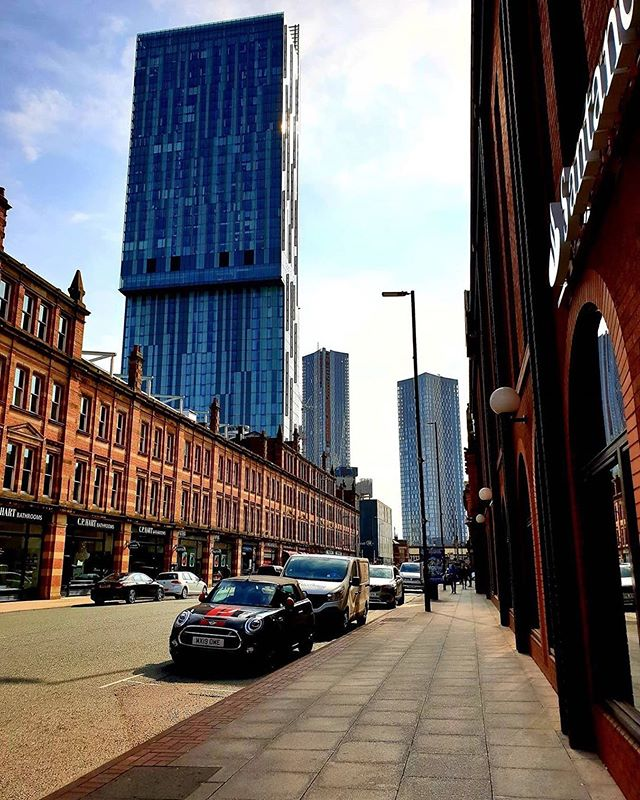building: (471, 1, 640, 800), (1, 287, 361, 561), (115, 8, 309, 448), (390, 372, 471, 554)
car: (164, 563, 322, 674), (88, 568, 167, 604)
sidewalk: (150, 587, 567, 787)
sky: (303, 1, 464, 364), (9, 1, 117, 271)
street: (5, 585, 264, 799)
